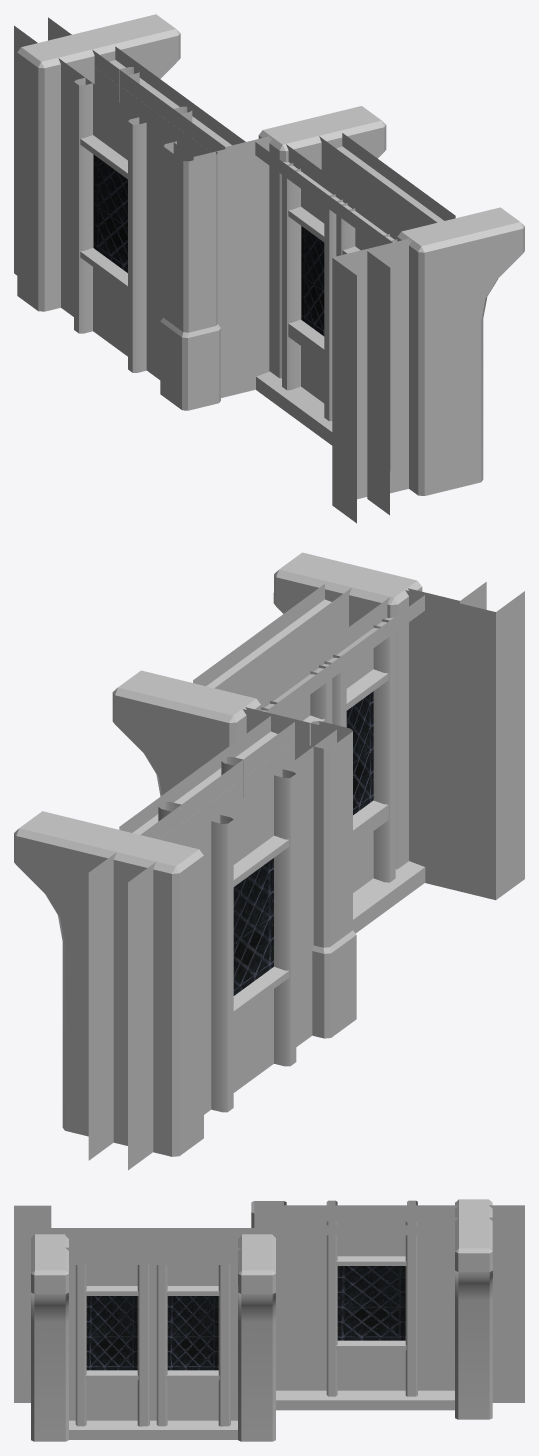
Rendered from House_01_Face_02.FBX.
3 views of the same model, one above another, from view 1: azimuth 30°, elevation 25°; view 2: azimuth 150°, elevation 25°; view 3: azimuth 270°, elevation 25° (orthographic). The views are drawn at different scales.
Visible parts, largest first — view 1: House_01_Face_02; view 2: House_01_Face_02; view 3: House_01_Face_02.
Boxes of the visible parts, bbox=[...] form: House_01_Face_02: bbox=[14, 14, 524, 523]; House_01_Face_02: bbox=[14, 552, 524, 1170]; House_01_Face_02: bbox=[14, 1199, 524, 1441].
Size of the model in its own units: 82.11 by 96.01 by 240.
